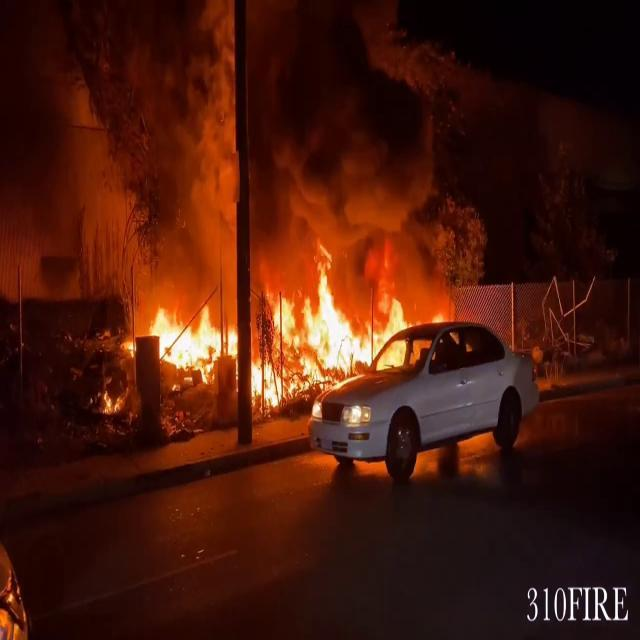Fire: (136, 247, 420, 408)
Smoke: (0, 0, 439, 287)
